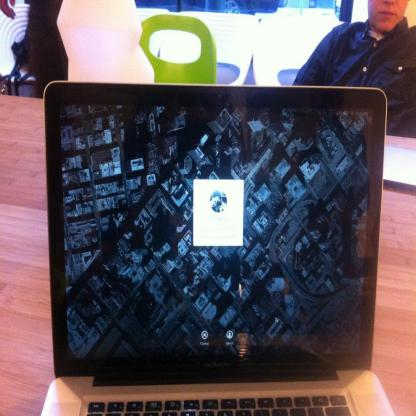board: (38, 80, 398, 416)
